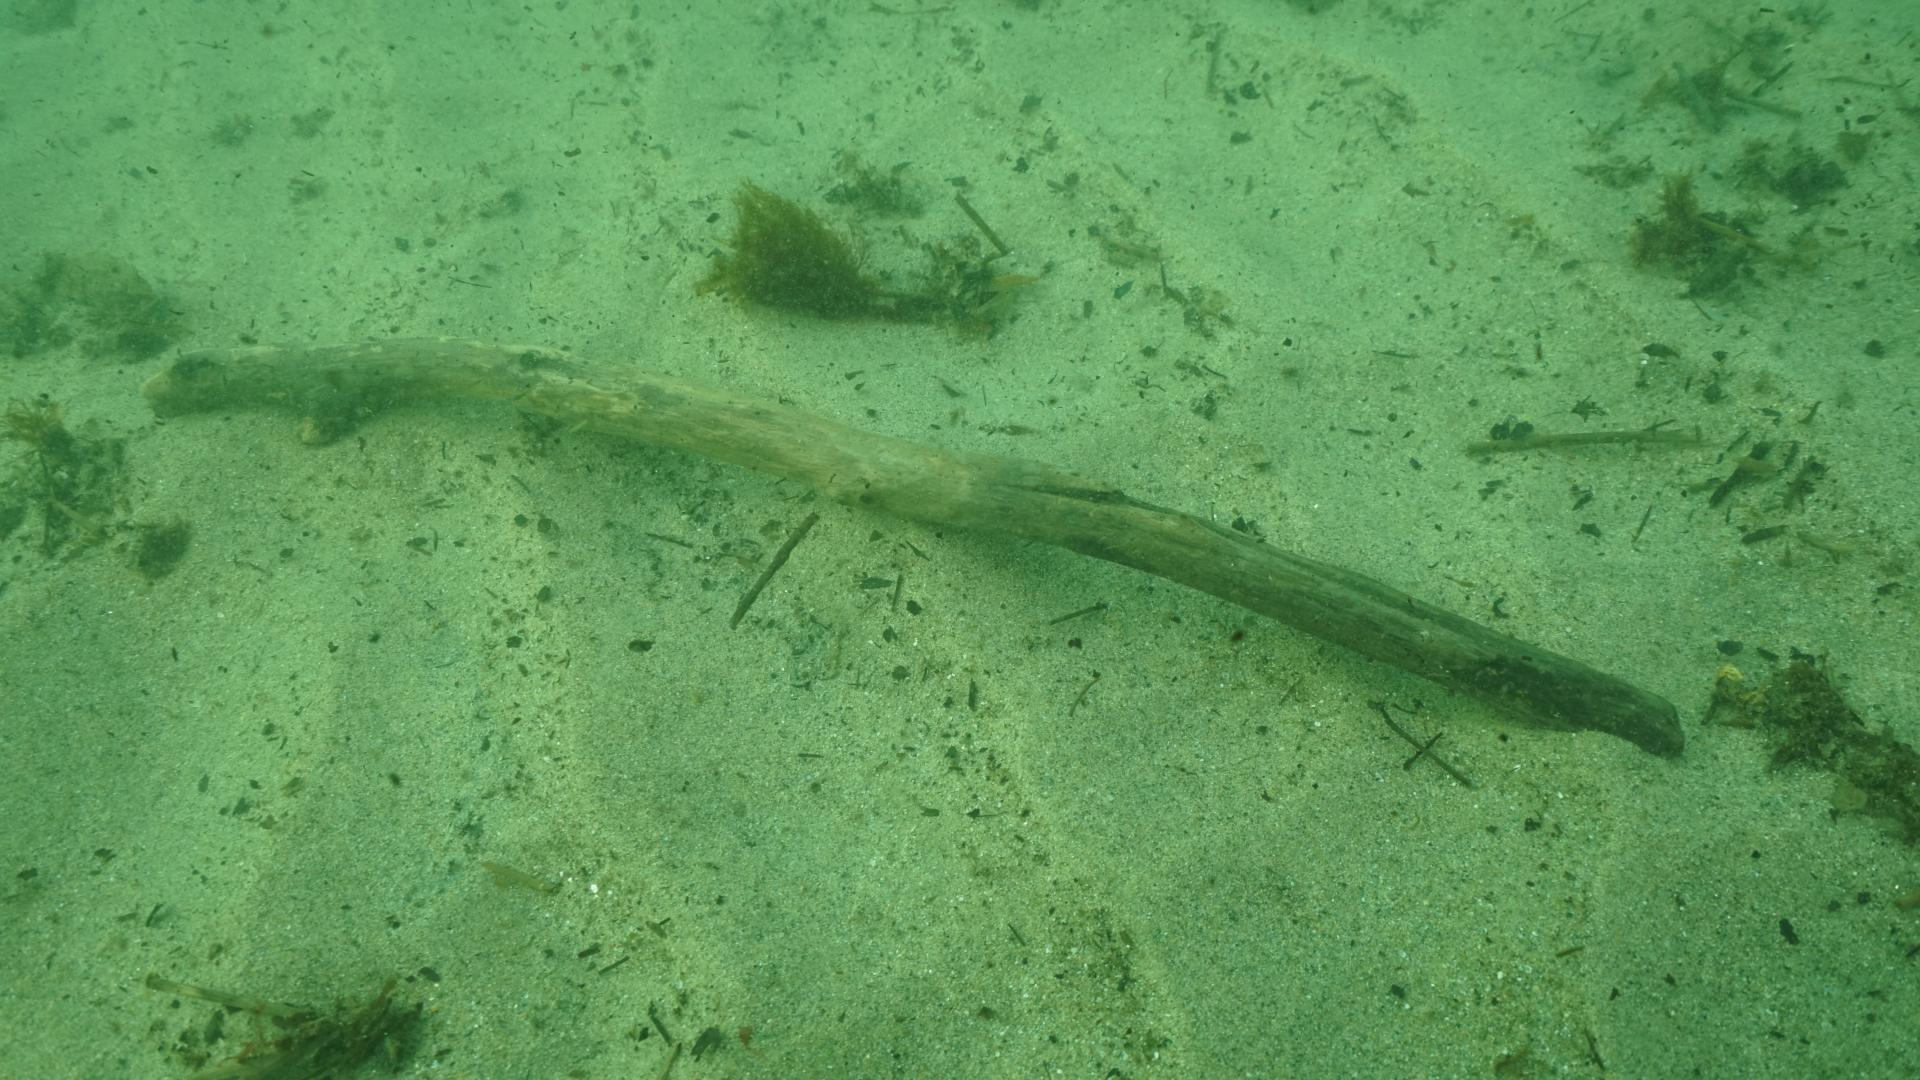wood: (150, 349, 1691, 757)
